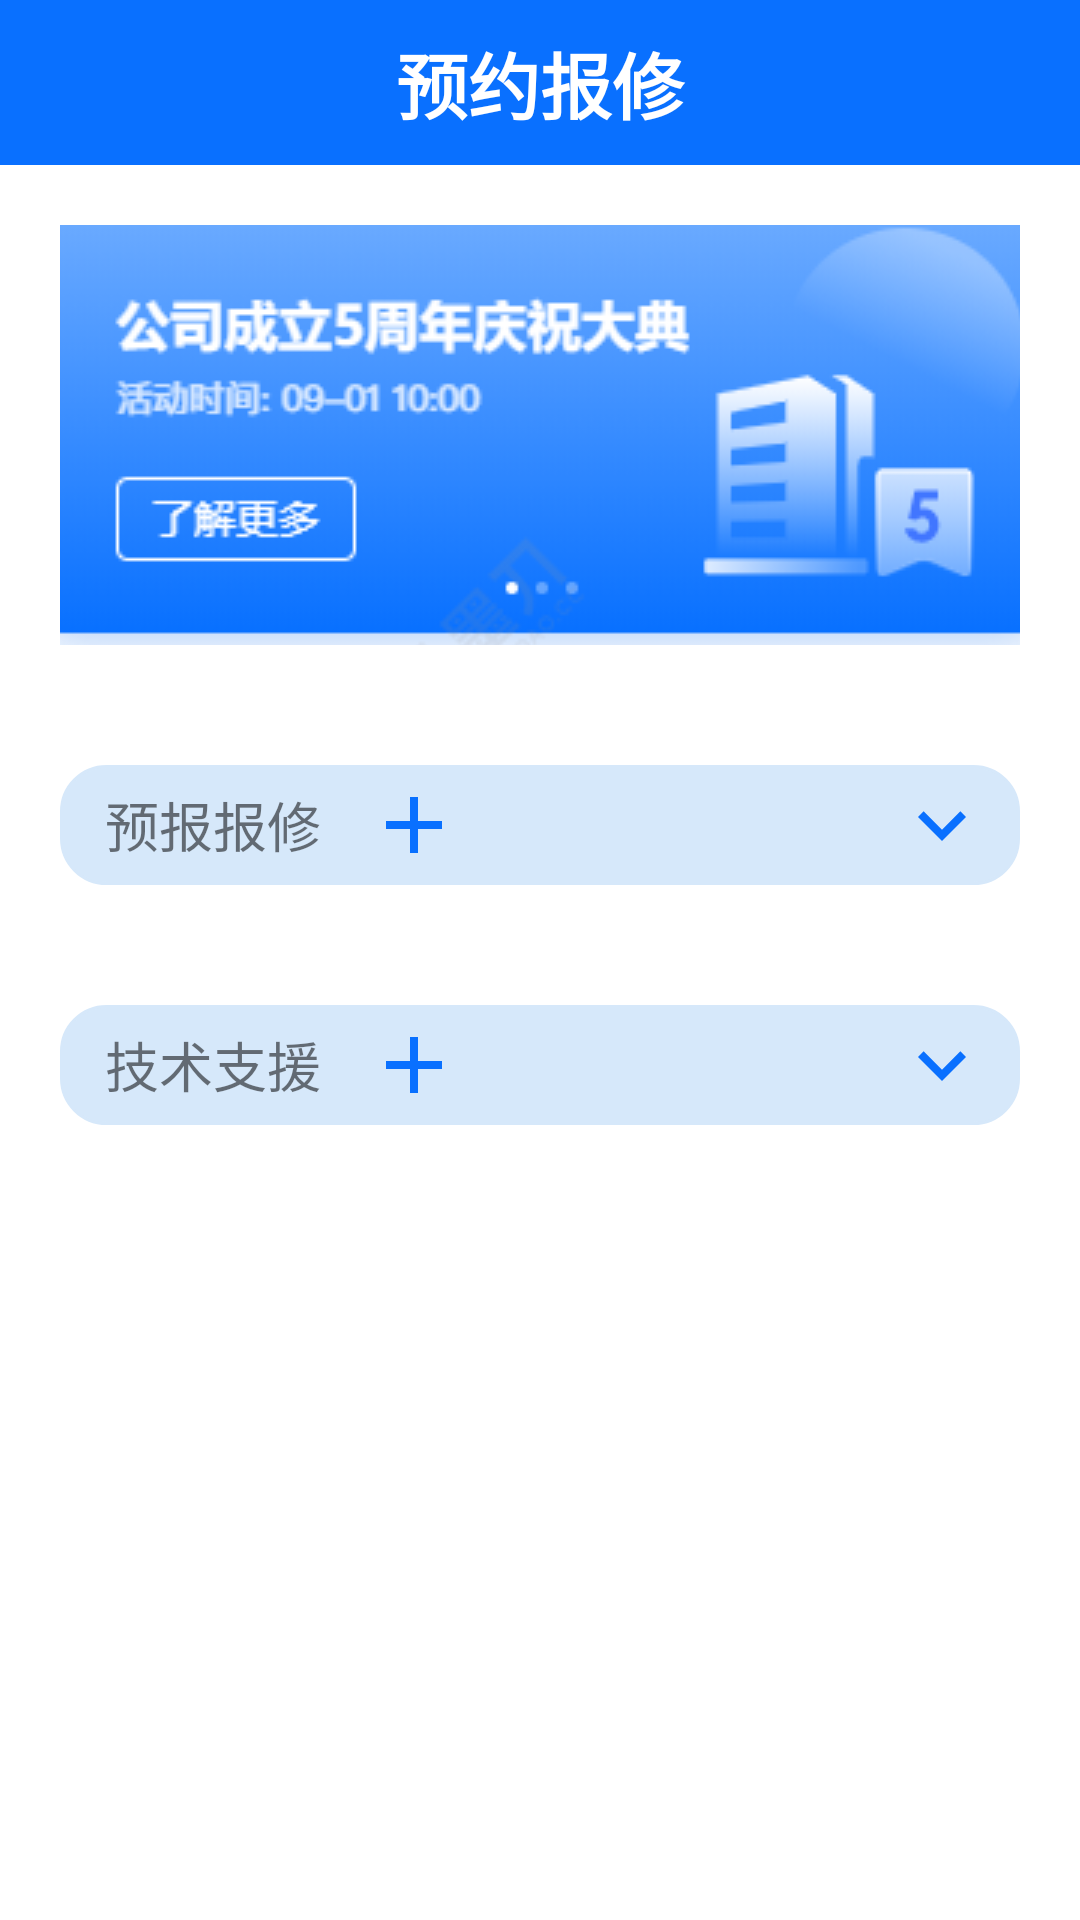

Point at icon controls on the screen. Image size 1080 x 1920, points as point (x, y).
add: point (414, 825), point (414, 1065)
more: point (942, 825), point (942, 1065)
